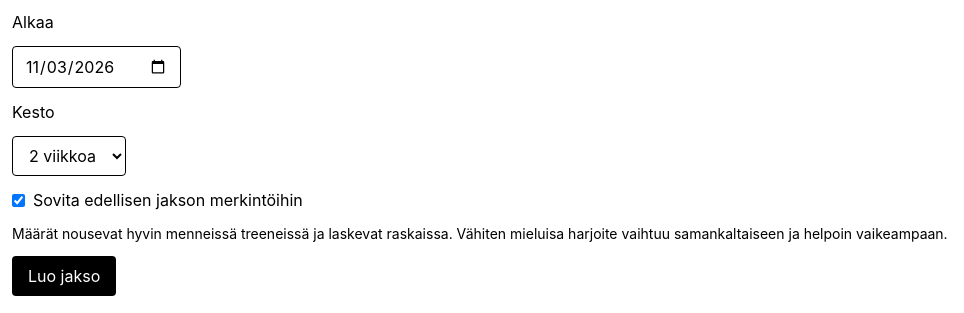
Scenario: PeriodForm › says when the marks changed nothing
The image size is (964, 313).
Click the button "Luo jakso": click(64, 276) [12,256,116,296]
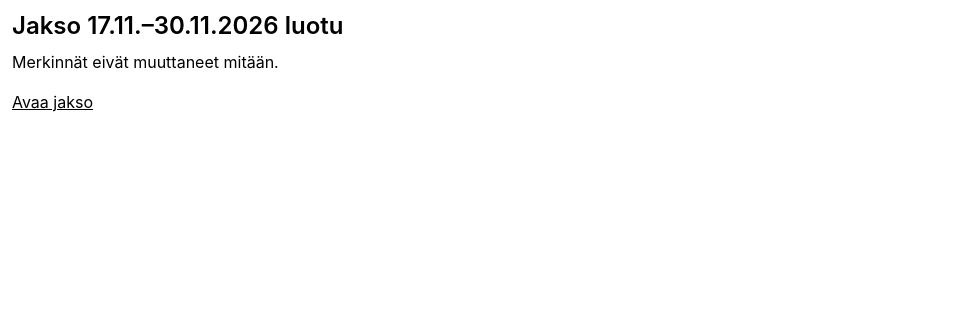
expect the text "Merkinnät eivät muuttaneet mitään." is shown: met, box [12,52,279,72]
